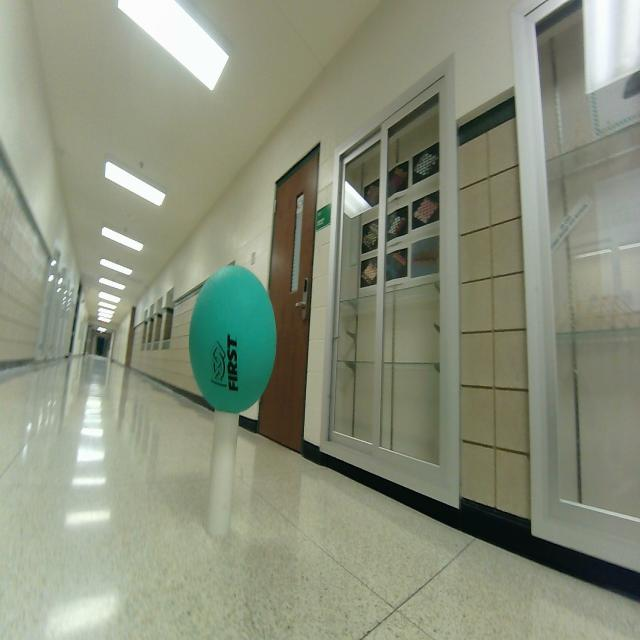algae: (189, 261, 277, 414)
coral: (205, 410, 238, 538)
